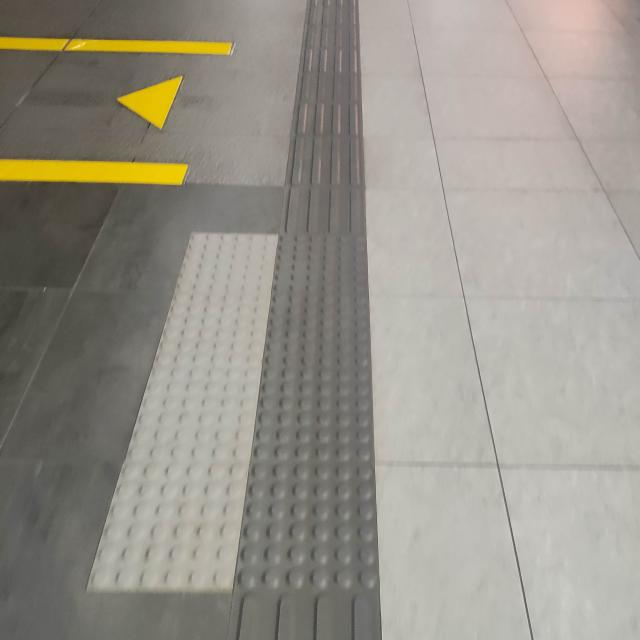lurus: (248, 0, 381, 640)
